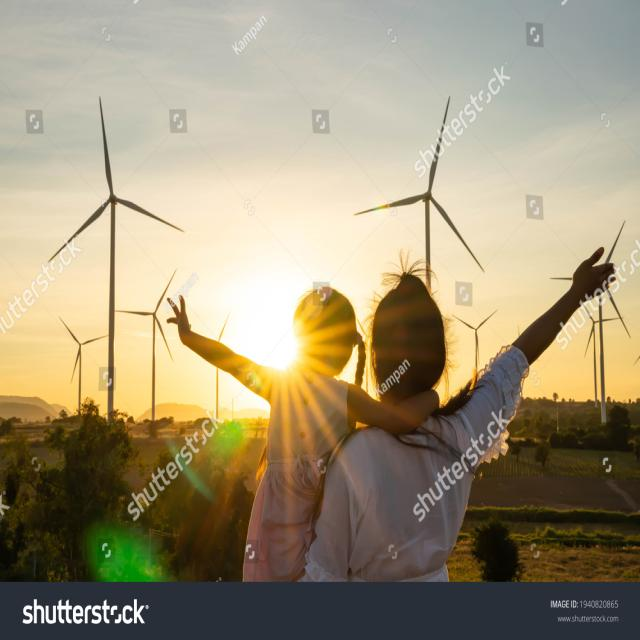wind-turbine: (70, 100, 180, 420), (356, 97, 480, 287)
